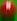red: (0, 0, 17, 21)
